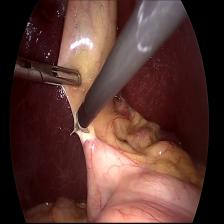Grasper: (11, 56, 83, 93)
Hook: (66, 105, 88, 147)
